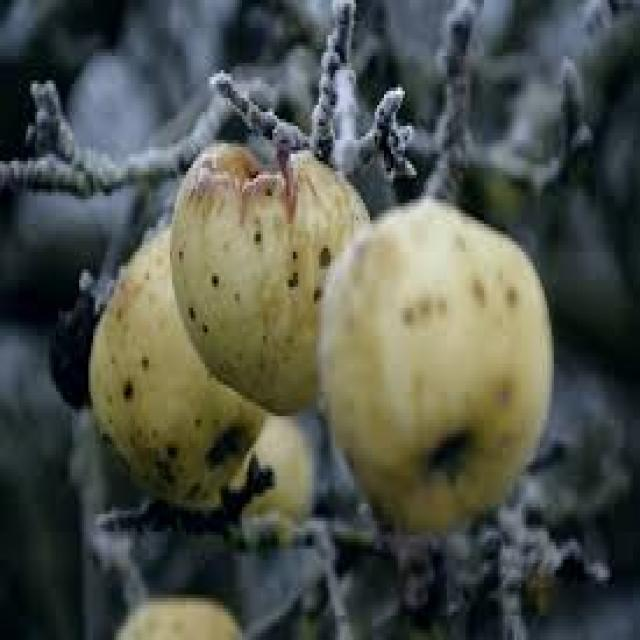food_waste: (93, 143, 552, 528), (116, 598, 240, 637)
